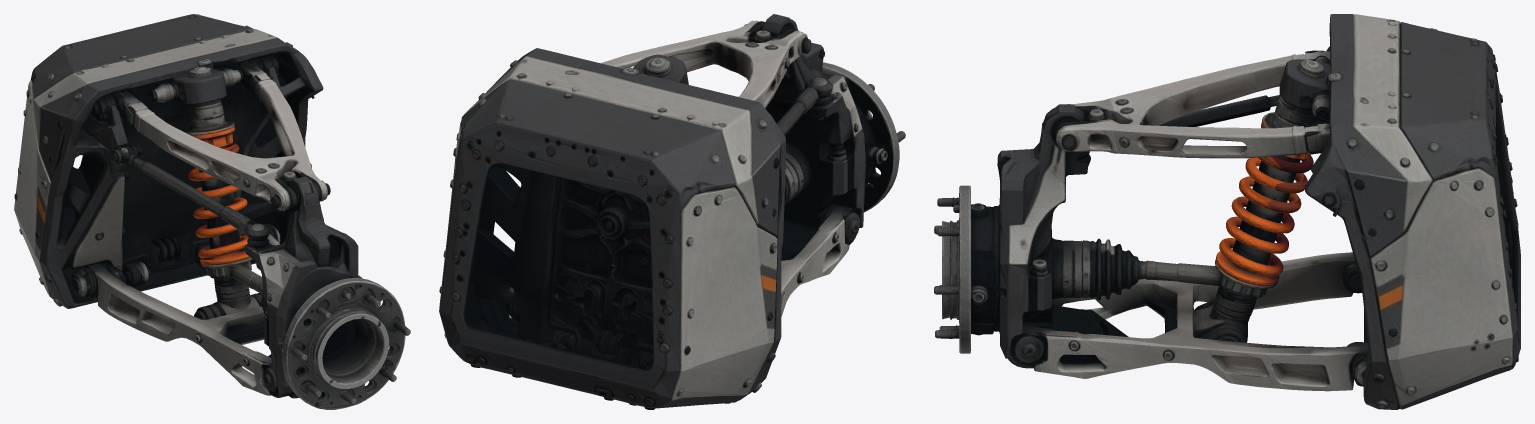
The model's file is susp.glb.
3 renders of one model, left to right at view 1: azimuth 30°, elevation 25°; view 2: azimuth 150°, elevation 25°; view 3: azimuth 270°, elevation 25°, orthographic. The views are drawn at different scales.
Bounding box in the file's own units: 0.6194 × 0.5458 × 0.9999.
Materials: 1 (1 with a texture image).
